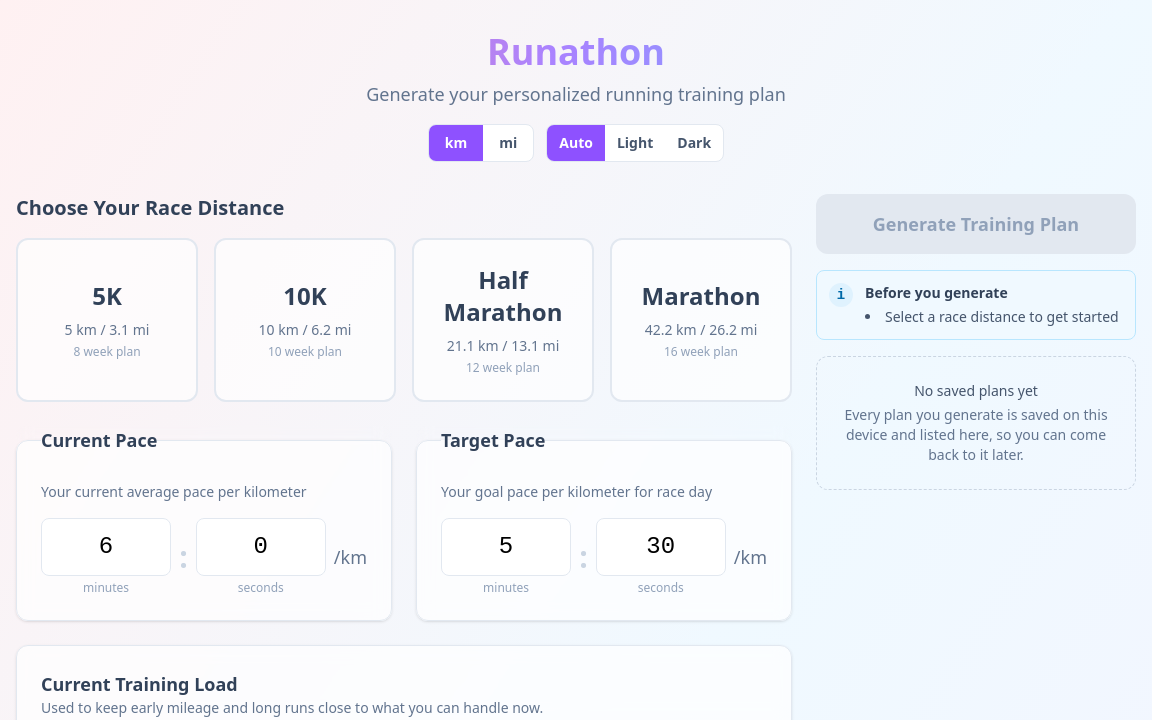
it: App › warns without blocking when the target pace is not faster
Click the button with aria-label "5K, 5 kilometers" at (107, 320), box [16, 238, 198, 402]
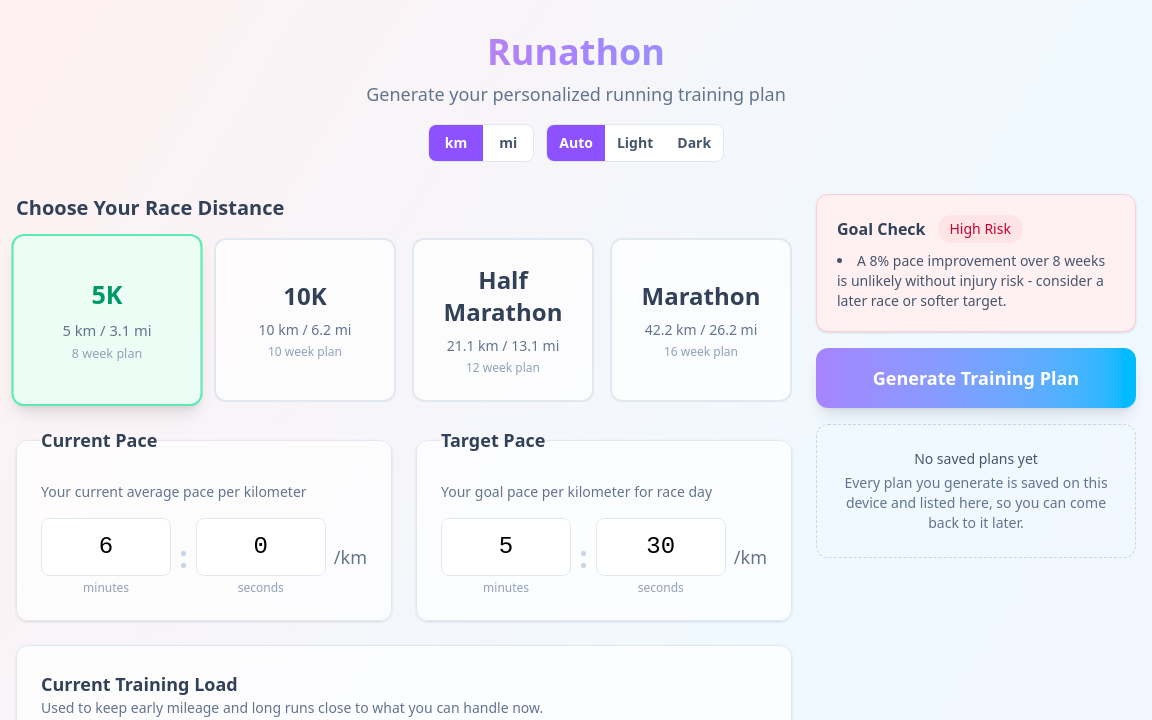
Replace the text in the 3rd field named "Target Pace minutes" with "7" at (506, 547), box [441, 518, 571, 576]
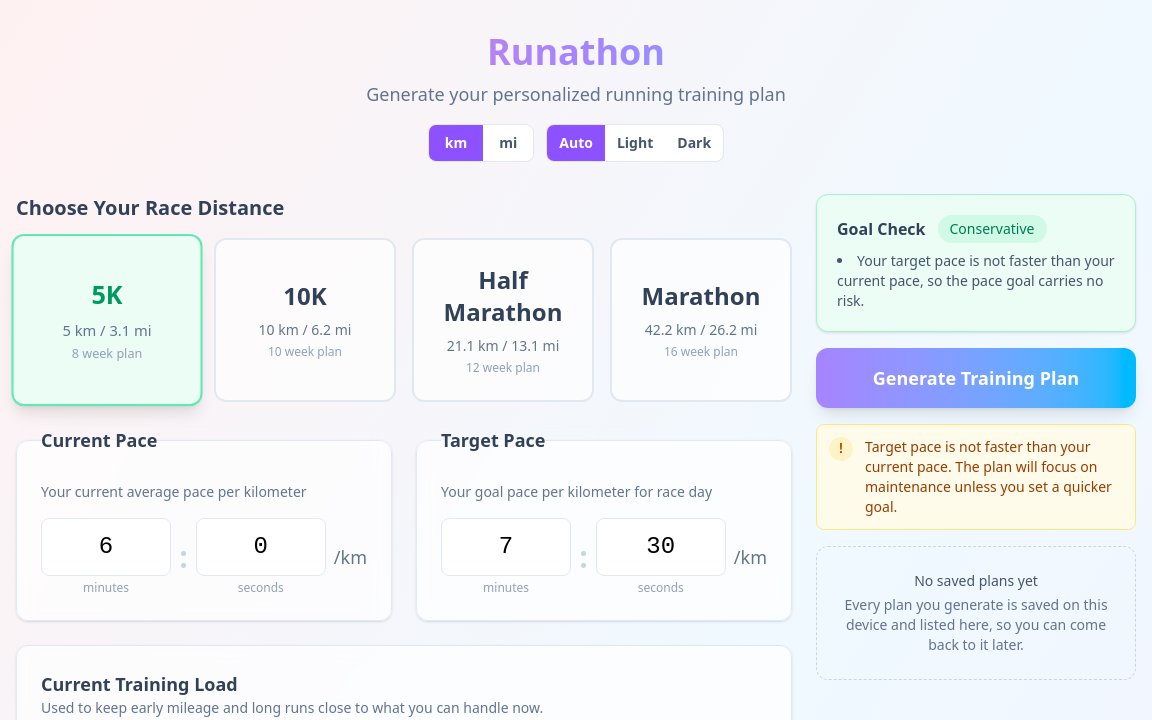
Result: the button with aria-label "generate your personalized training plan" is enabled at [816, 348, 1136, 408]
Result: the 2nd message shows "Target pace is not faster than your current pace" at [865, 437, 1112, 516]
